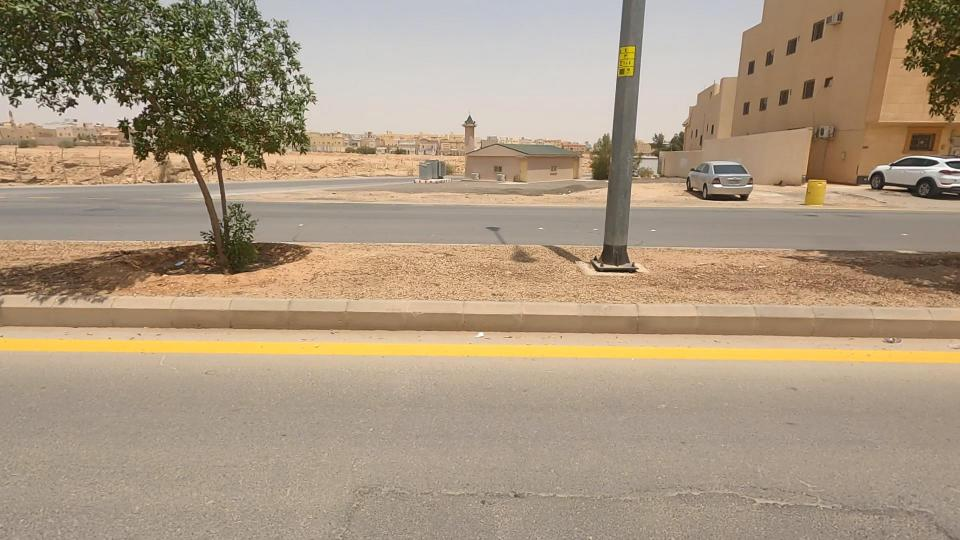GARBAGE: (154, 239, 199, 294)
